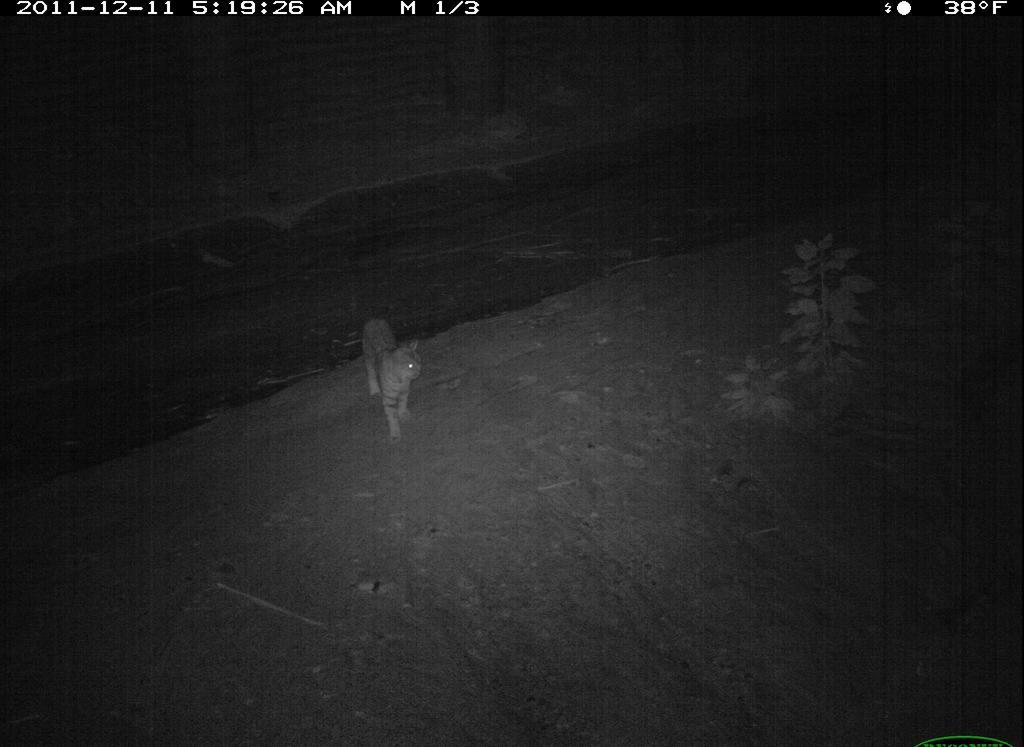bobcat: (346, 300, 440, 445)
